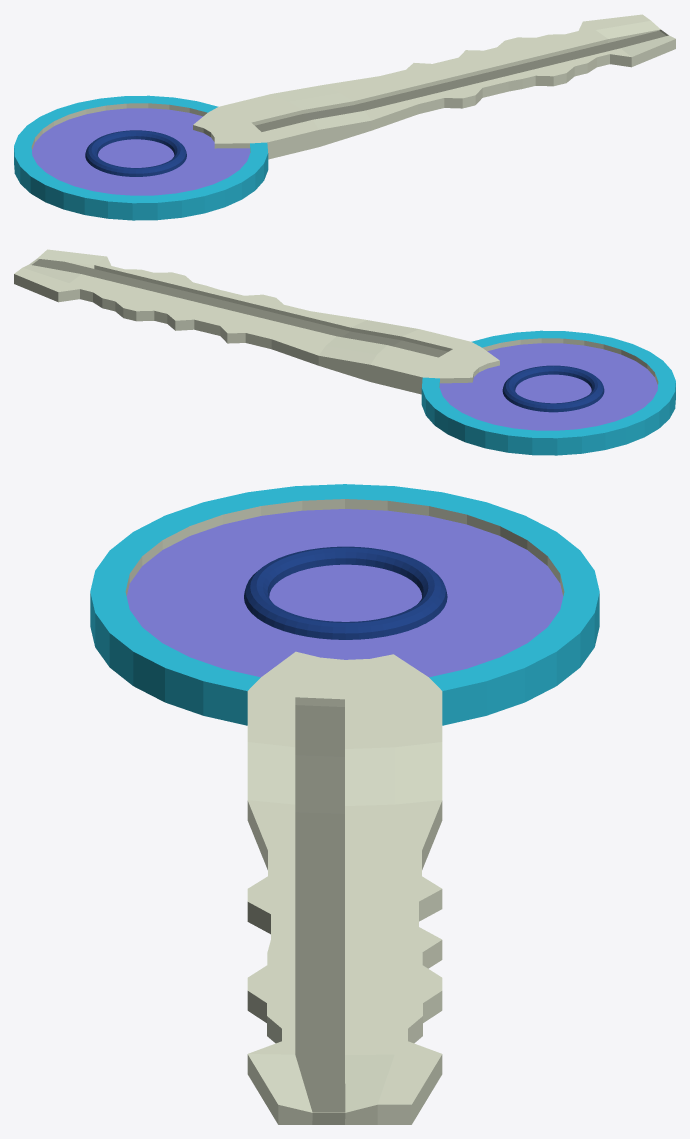
File: Key-Ring.fbx
3 renders of one model, top to bottom at view 1: azimuth 30°, elevation 25°; view 2: azimuth 150°, elevation 25°; view 3: azimuth 270°, elevation 25°, orthographic. The views are drawn at different scales.
Visible parts, largest first — view 1: 柱体.001, 环体.001; view 2: 柱体.001, 环体.001; view 3: 柱体.001, 环体.001.
Boxes of the visible parts, x1=… form: 柱体.001: x1=14, y1=14, x2=675, y2=220; 环体.001: x1=85, y1=130, x2=186, y2=176; 柱体.001: x1=14, y1=249, x2=675, y2=455; 环体.001: x1=502, y1=365, x2=604, y2=412; 柱体.001: x1=90, y1=484, x2=599, y2=1124; 环体.001: x1=244, y1=546, x2=447, y2=639.
Size of the model in its own units: 571 by 15.71 by 200.
